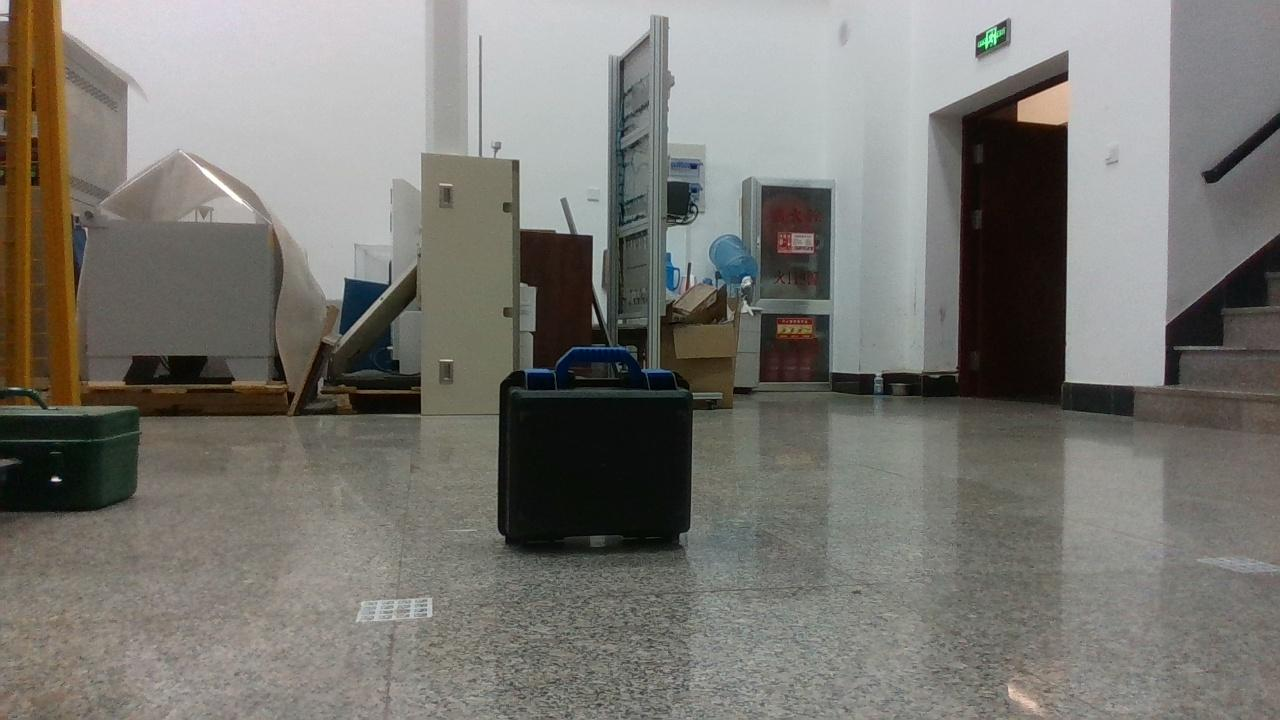toolkit: (498, 348, 692, 542)
